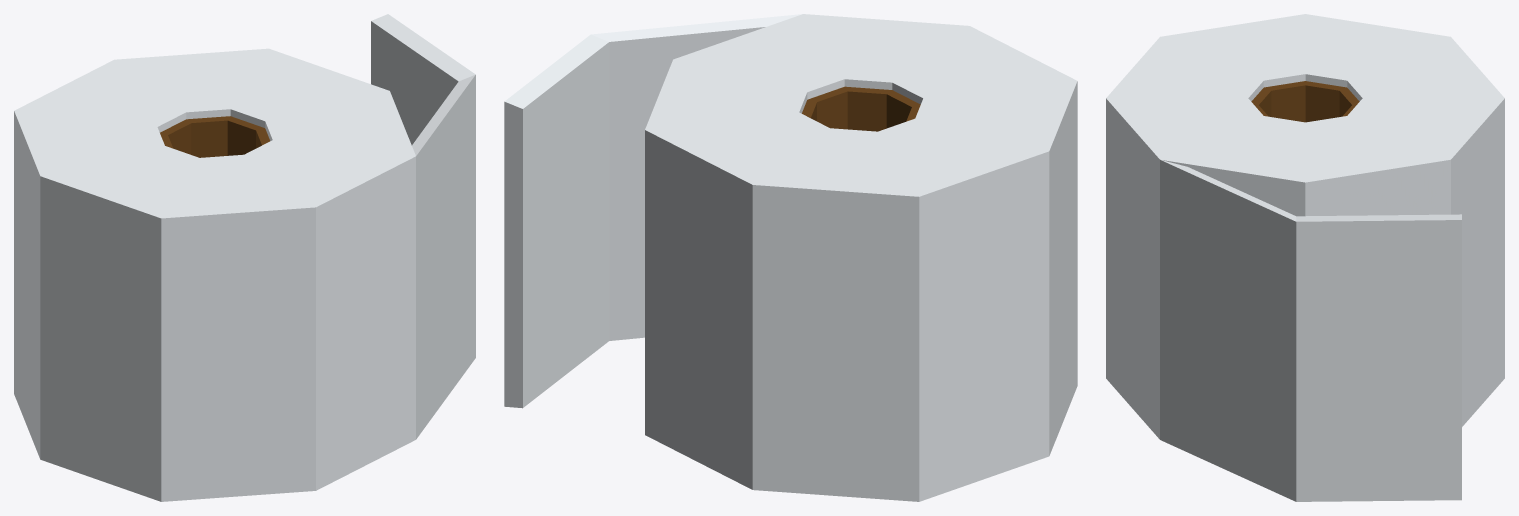
File: Klopapier.fbx
3 renders of one model, left to right at view 1: azimuth 30°, elevation 25°; view 2: azimuth 150°, elevation 25°; view 3: azimuth 270°, elevation 25°, orthographic. The views are drawn at different scales.
Visible parts, largest first — view 1: Klopapier; view 2: Klopapier; view 3: Klopapier.
Boxes of the visible parts, left/top/right/bottom form: Klopapier: left=14, top=14, right=475, bottom=501; Klopapier: left=504, top=14, right=1077, bottom=501; Klopapier: left=1106, top=14, right=1504, bottom=501.
Bounding box in the file's own units: 338 × 213 × 274.
